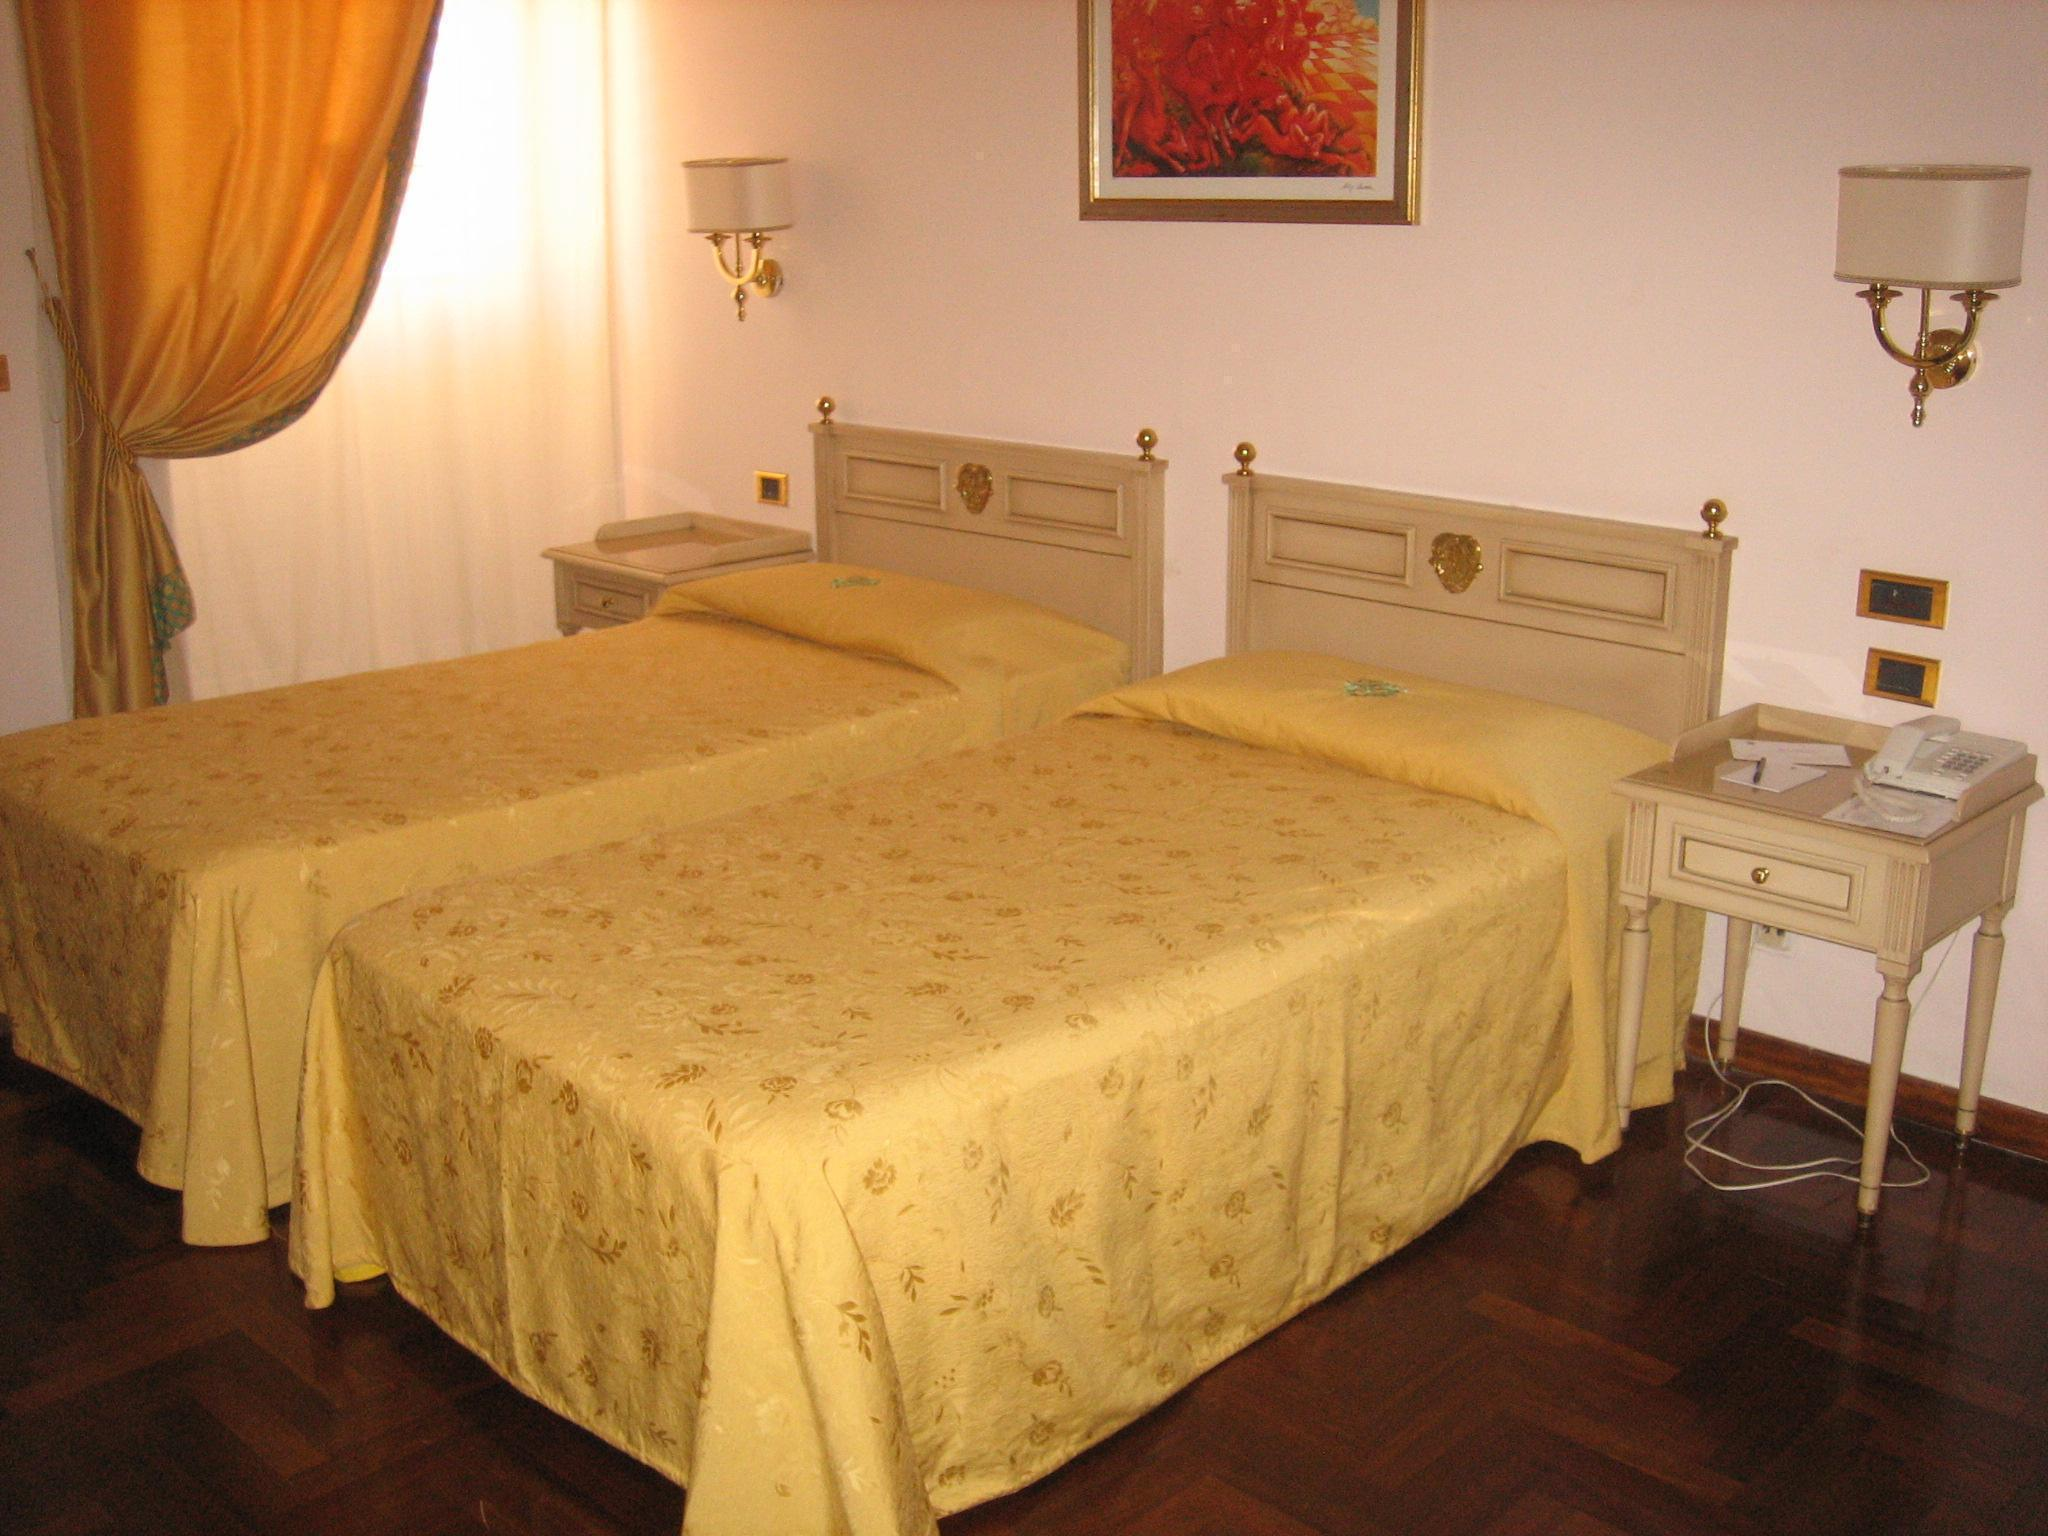Cama: (323, 432, 1763, 1517), (15, 366, 1195, 1262)
Ventana: (53, 15, 624, 520)
